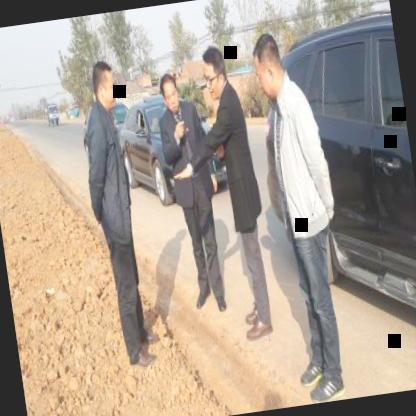head: (246, 24, 293, 108), (196, 42, 232, 99), (88, 58, 121, 113), (156, 68, 186, 116)
